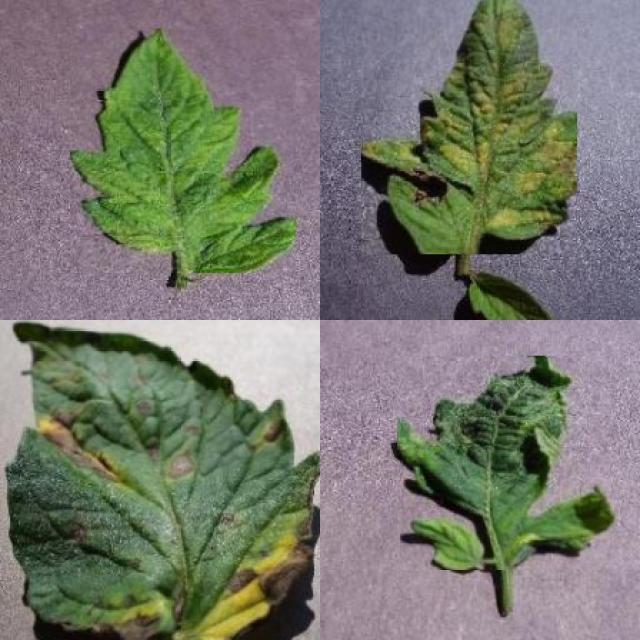Early Blight: (9, 323, 320, 640)
Leaf Mold: (361, 0, 577, 254)
Mosaic Virus: (70, 28, 296, 273), (398, 356, 615, 571)
